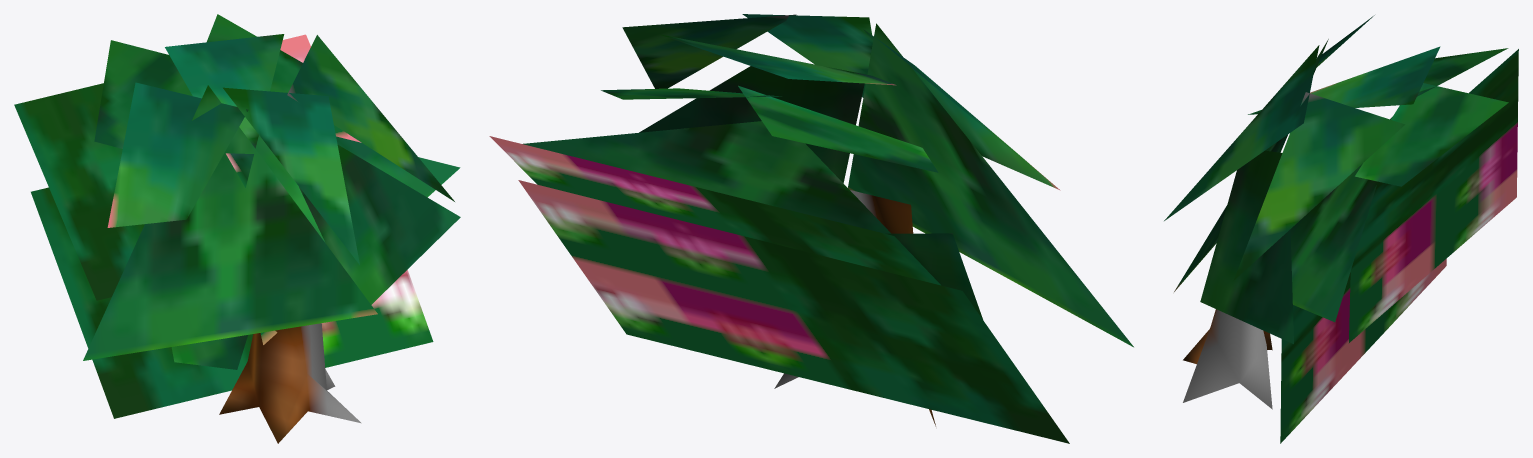
Rendered from fg_bushA_1.dae.
3 renders of one model, left to right at view 1: azimuth 30°, elevation 25°; view 2: azimuth 150°, elevation 25°; view 3: azimuth 270°, elevation 25°, orthographic. The views are drawn at different scales.
Visible parts, largest first — view 1: fg_bushA_1; view 2: fg_bushA_1; view 3: fg_bushA_1.
Part boxes in pixels (x1,y1,x2,y2): fg_bushA_1: [14, 14, 460, 443]; fg_bushA_1: [489, 14, 1133, 443]; fg_bushA_1: [1164, 15, 1518, 443].
Size of the model in its own units: 35.43 by 25.39 by 25.39.
Materials: 1 (1 with a texture image).
